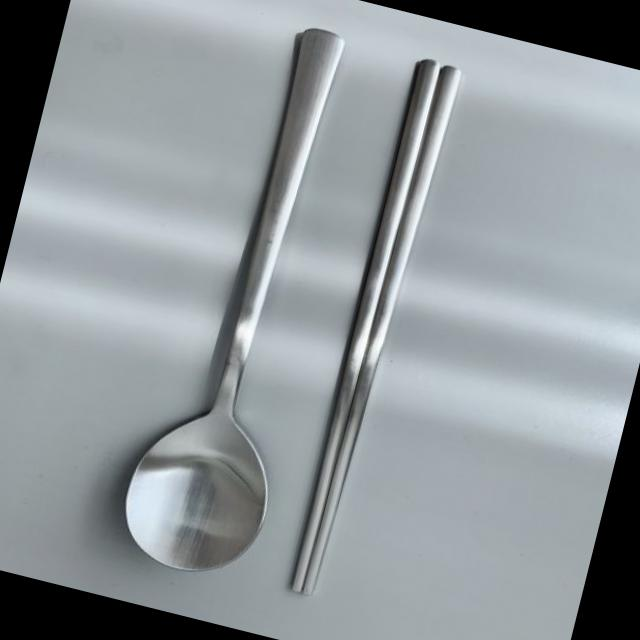spoon: (111, 14, 370, 589)
